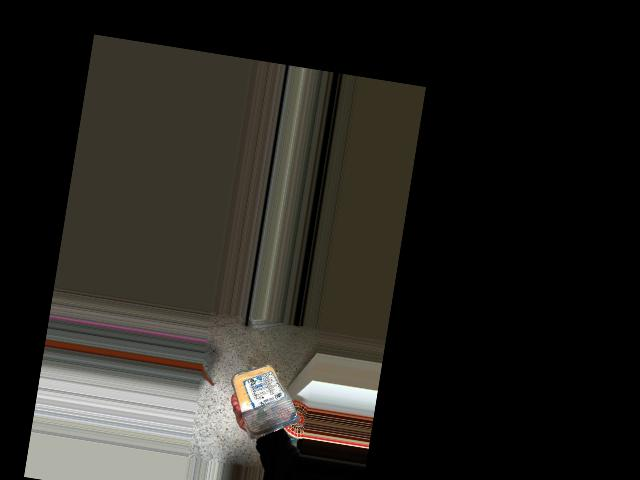cheese: (231, 355, 305, 440)
